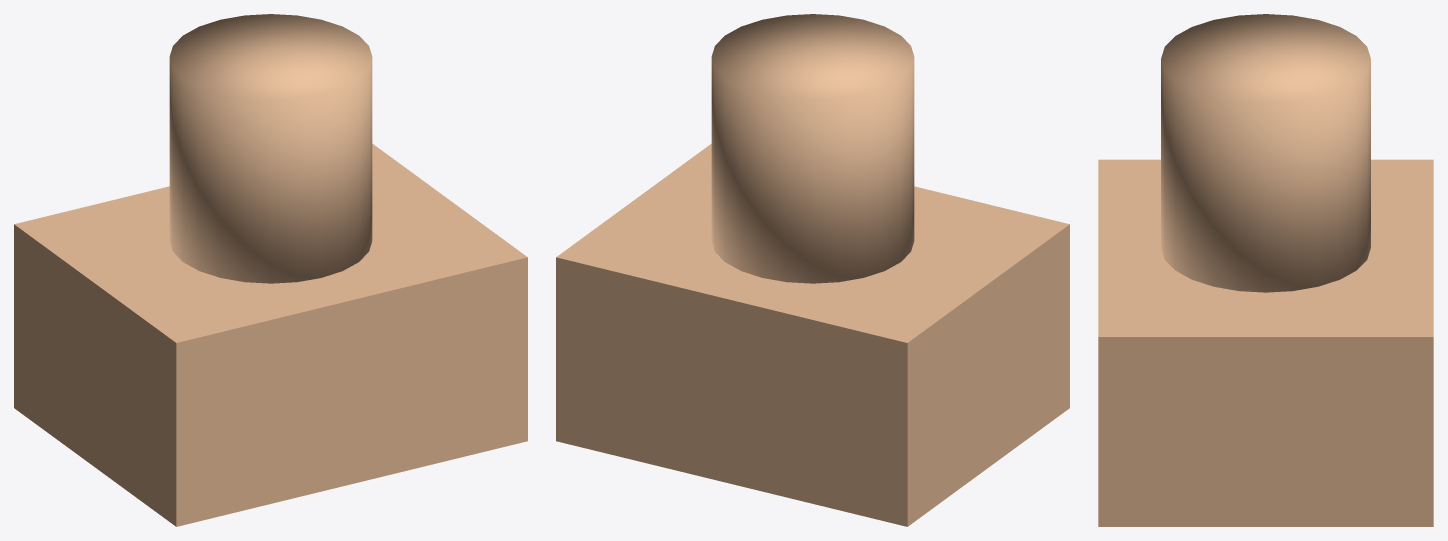
Rendered from welding-copper-backing-shoe.glb.
3 views of the same model, side by side, from view 1: azimuth 30°, elevation 25°; view 2: azimuth 150°, elevation 25°; view 3: azimuth 270°, elevation 25° (orthographic). The views are drawn at different scales.
Visible parts, largest first — view 1: model-welding-copper-backing-shoe; view 2: model-welding-copper-backing-shoe; view 3: model-welding-copper-backing-shoe.
Boxes of the visible parts, x1,y1,x2,y2 form: model-welding-copper-backing-shoe: [14, 14, 527, 526]; model-welding-copper-backing-shoe: [556, 14, 1069, 526]; model-welding-copper-backing-shoe: [1098, 14, 1433, 526].
Bounding box in the file's own units: 1 × 1 × 0.8.
